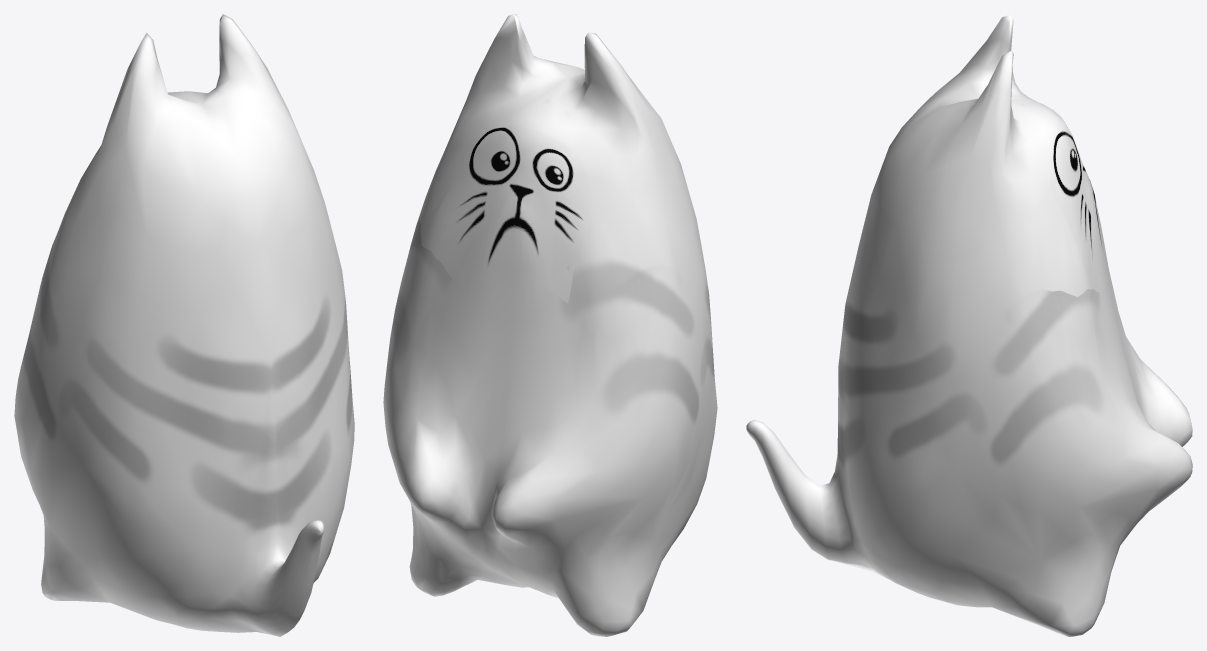
The model's file is Cat02.fbx.
The picture shows the model from 3 angles, left to right: view 1: azimuth 30°, elevation 25°; view 2: azimuth 150°, elevation 25°; view 3: azimuth 270°, elevation 25°; orthographic projection. The views are drawn at different scales.
Parts seen in each view (by area): view 1: Cat02Mesh; view 2: Cat02Mesh; view 3: Cat02Mesh.
Boxes of the visible parts, x1,y1,x2,y2 form: Cat02Mesh: (14,14,354,636); Cat02Mesh: (383,14,717,636); Cat02Mesh: (746,14,1192,636).
Bounding box in the file's own units: 34 × 65.4 × 46.95.
